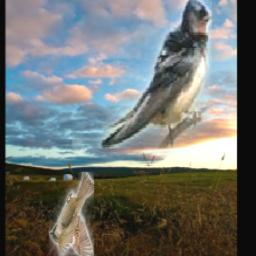Sparrow: (49, 173, 94, 256)
Swallow: (72, 0, 212, 150)
